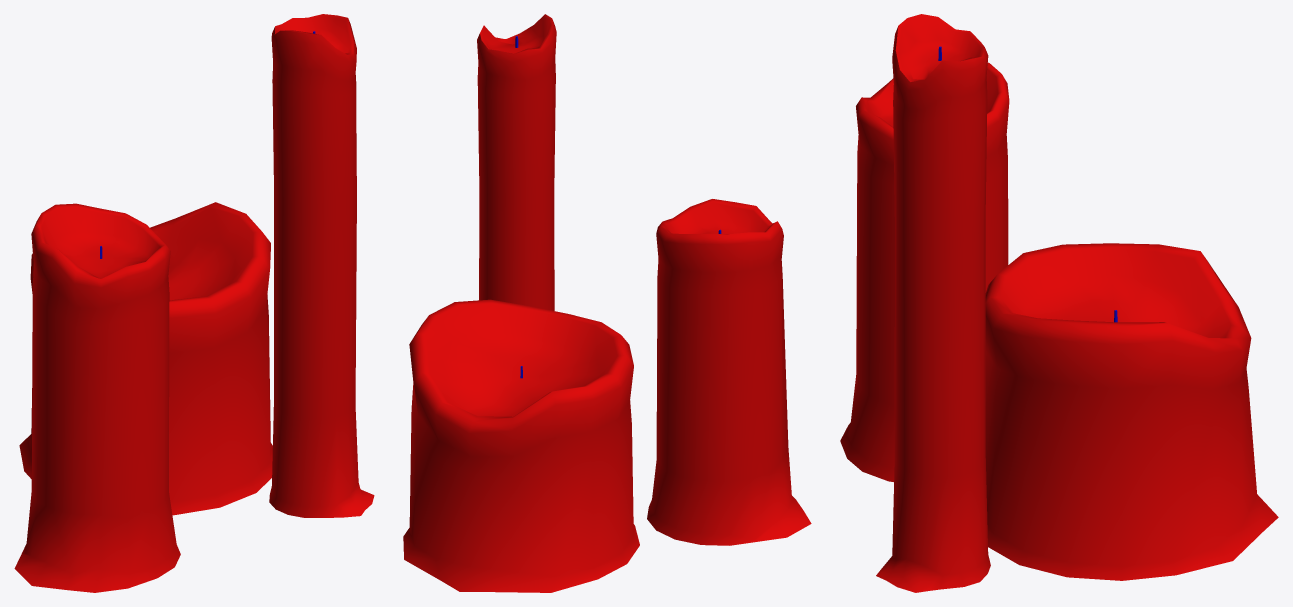
Rendered from Candle_01.FBX.
3 views of the same model, side by side, from view 1: azimuth 30°, elevation 25°; view 2: azimuth 150°, elevation 25°; view 3: azimuth 270°, elevation 25° (orthographic). The views are drawn at different scales.
Parts seen in each view (by area): view 1: Object002, Object001, Cylinder001; view 2: Cylinder001, Object002, Object001; view 3: Cylinder001, Object001, Object002.
Part boxes in pixels (bbox=[...]): Object002: bbox=[14, 203, 180, 592]; Object001: bbox=[269, 14, 374, 517]; Cylinder001: bbox=[19, 202, 272, 515]; Cylinder001: bbox=[403, 299, 639, 592]; Object002: bbox=[647, 199, 811, 545]; Object001: bbox=[477, 14, 556, 310]; Cylinder001: bbox=[985, 243, 1278, 580]; Object001: bbox=[876, 14, 990, 592]; Object002: bbox=[840, 62, 1009, 481].
Bounding box in the file's own units: 0.1532 × 0.1497 × 0.2017.
